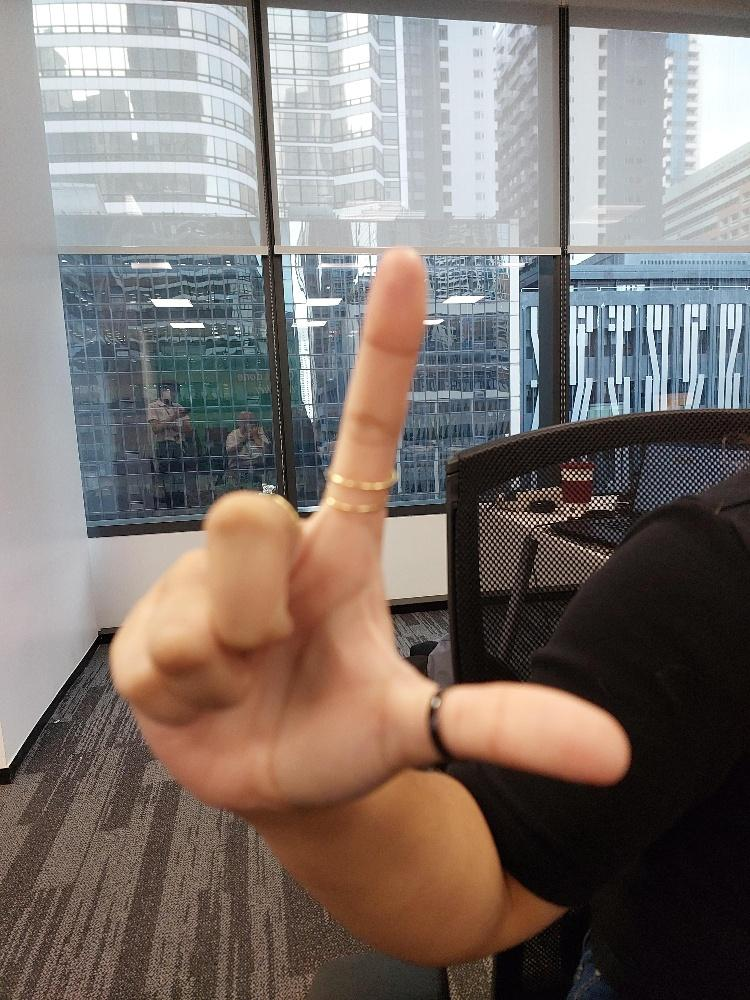l: (104, 243, 633, 818)
